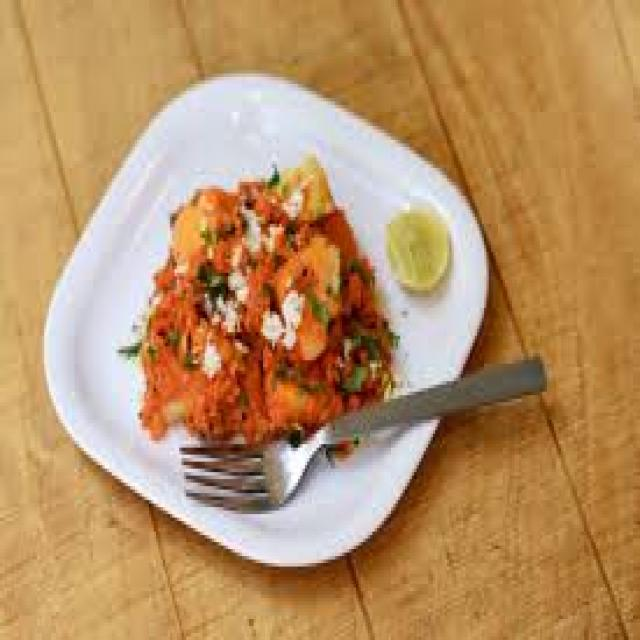BAJI: (130, 154, 391, 434)
